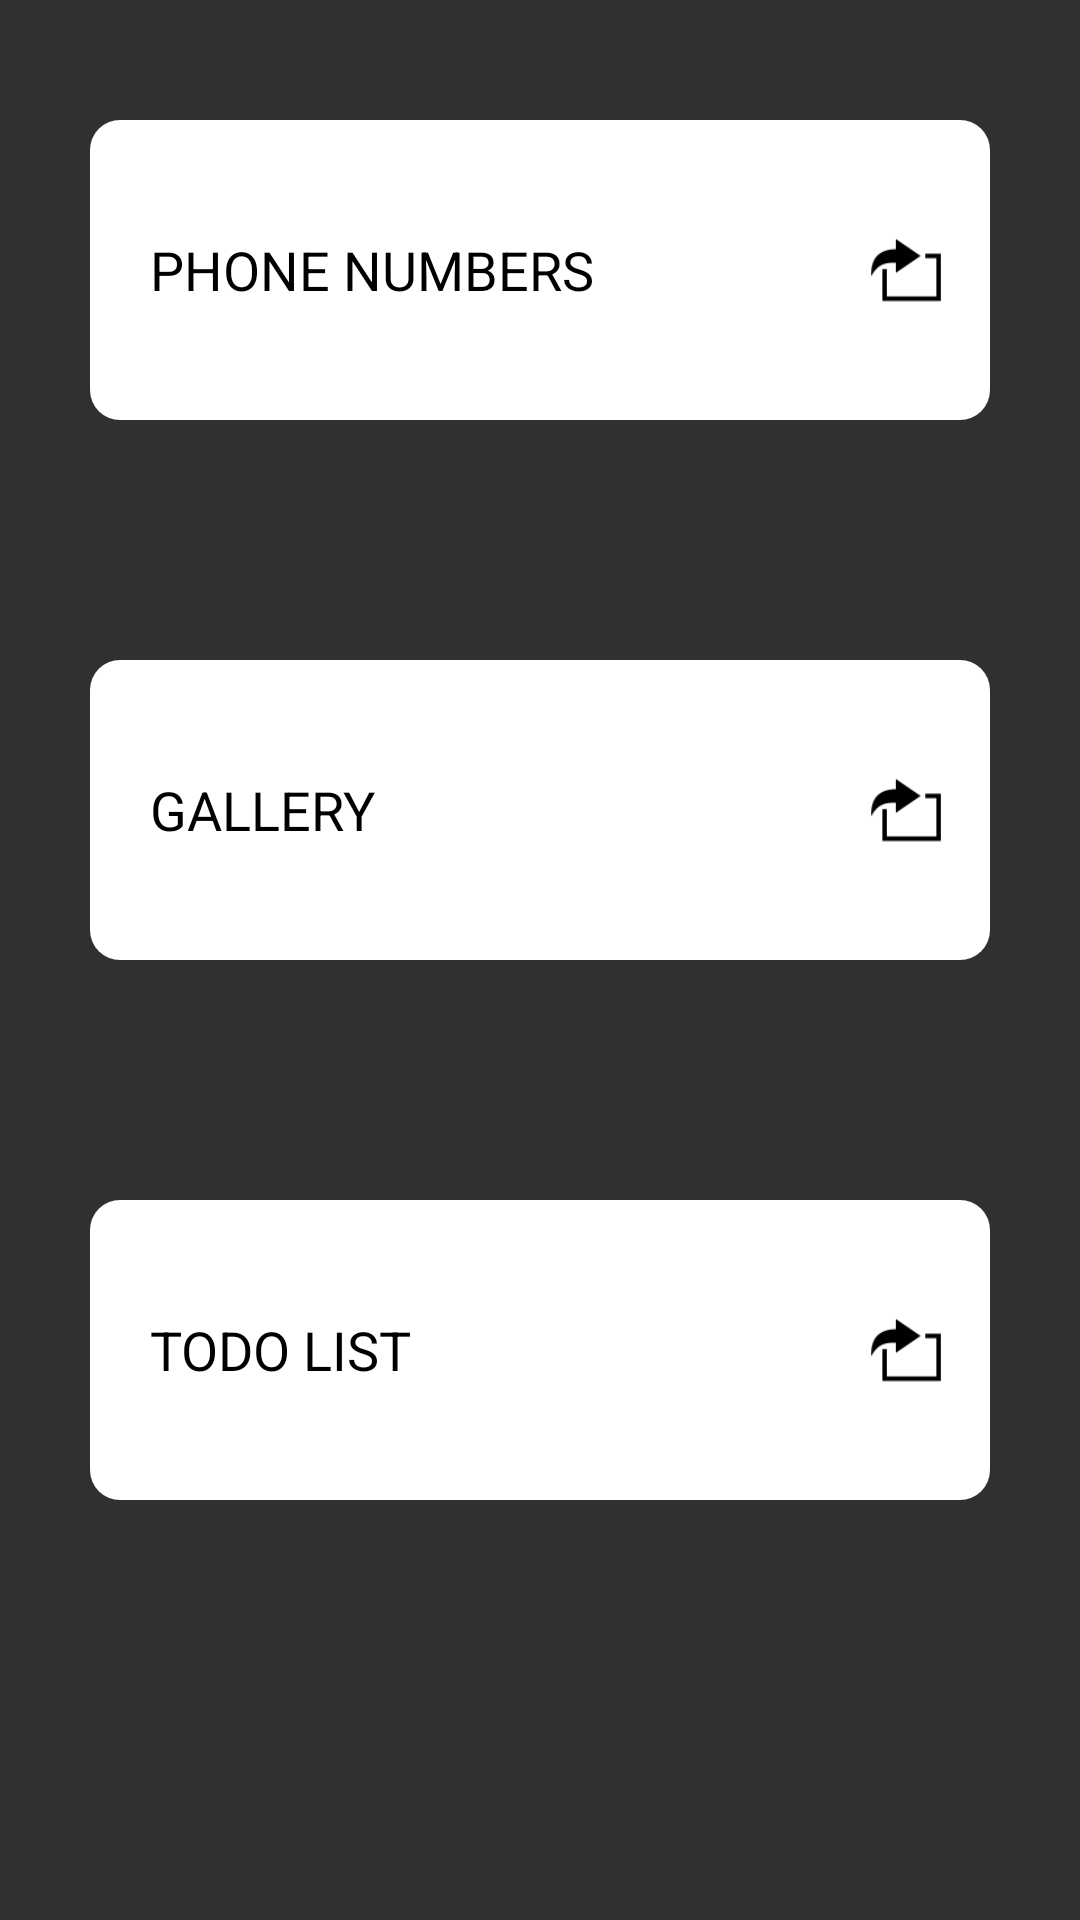

Screen size 1080 x 1920. Icon name, then its box in pixels as (x1, y1, x2, y2):
linking: (871, 239, 941, 302), (871, 779, 941, 842), (871, 1319, 941, 1382)
